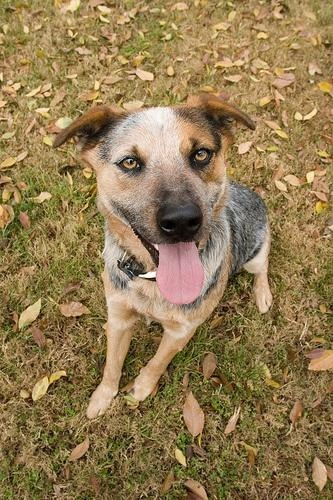dog: (49, 98, 276, 422)
